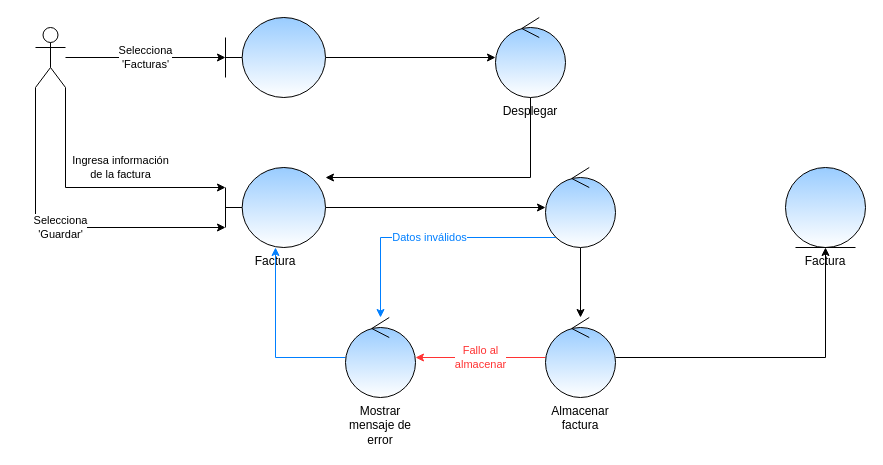
The diagram is 883 pixels wide and 465 high, and some of its shapes have lost their labels. The shapes that lost their labels are listed below. From the top down, each one's box as (x1, y1, x2, y2) in pixels, then its label:
(34, 26, 66, 88): Asistente de almacén
(224, 16, 326, 98): Menú principal
(544, 166, 616, 248): Validar datos
